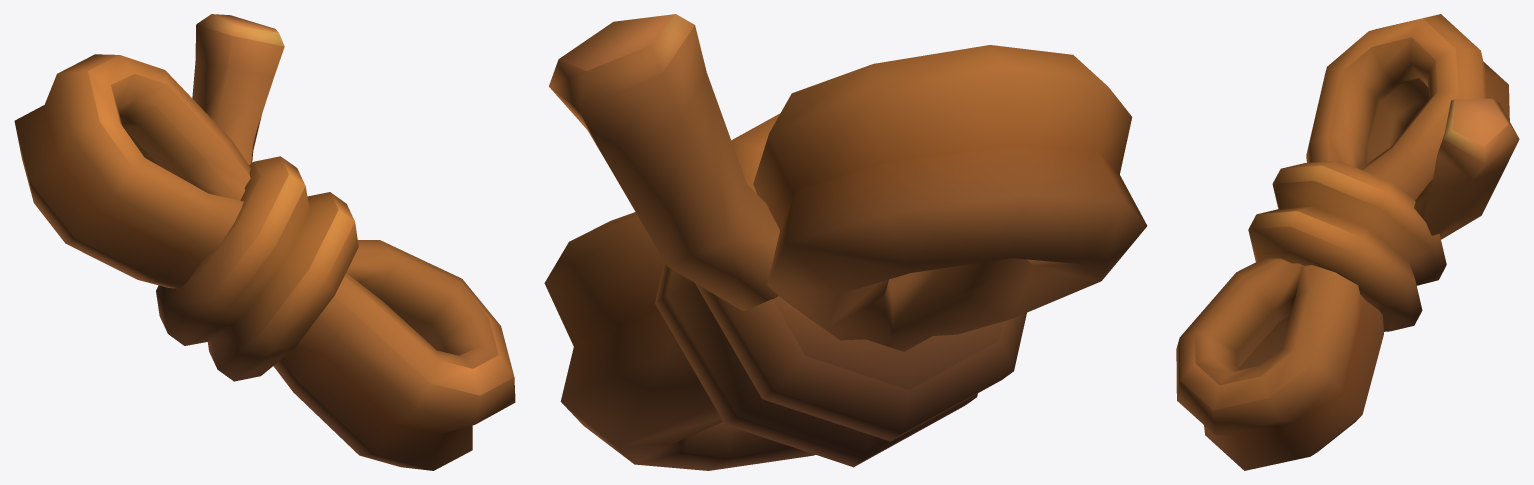
File: Icon_rope.fbx
The picture shows the model from 3 angles, left to right: view 1: azimuth 30°, elevation 25°; view 2: azimuth 150°, elevation 25°; view 3: azimuth 270°, elevation 25°; orthographic projection. The views are drawn at different scales.
Visible parts, largest first — view 1: Plane.002; view 2: Plane.002; view 3: Plane.002.
Part boxes in pixels (x1,y1,x2,y2): Plane.002: [14, 14, 515, 470]; Plane.002: [544, 14, 1147, 470]; Plane.002: [1176, 14, 1519, 470].
Size of the model in its own units: 413 by 373 by 347.
